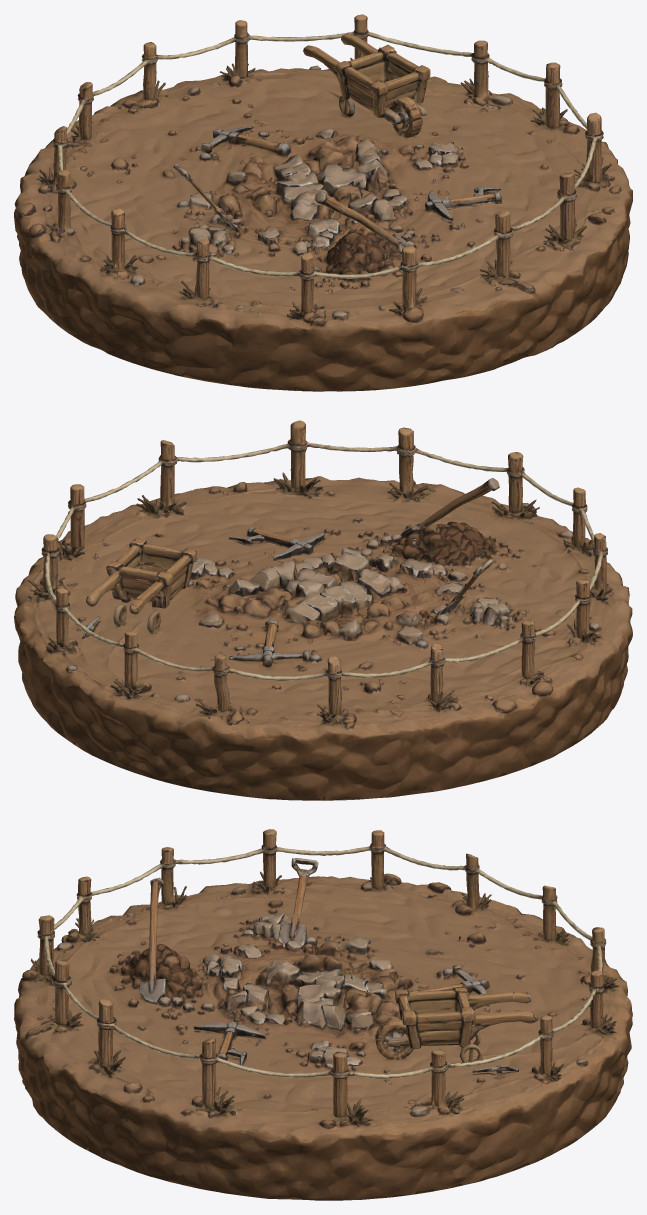
Rendered from tripo_convert_1eb3f5c1-7f8f-44ef-a288-b16613277661.fbx.
3 views of the same model, one above another, from view 1: azimuth 30°, elevation 25°; view 2: azimuth 150°, elevation 25°; view 3: azimuth 270°, elevation 25° (orthographic).
Visible parts, largest first — view 1: tripo_node_1eb3f5c1; view 2: tripo_node_1eb3f5c1; view 3: tripo_node_1eb3f5c1.
Part boxes in pixels (left/top/right/bottom): tripo_node_1eb3f5c1: left=14, top=14, right=632, bottom=391; tripo_node_1eb3f5c1: left=14, top=420, right=632, bottom=800; tripo_node_1eb3f5c1: left=14, top=829, right=632, bottom=1200.
Bounding box in the file's own units: 0.9816 × 0.2708 × 0.9796.
Materials: 1 (1 with a texture image).
